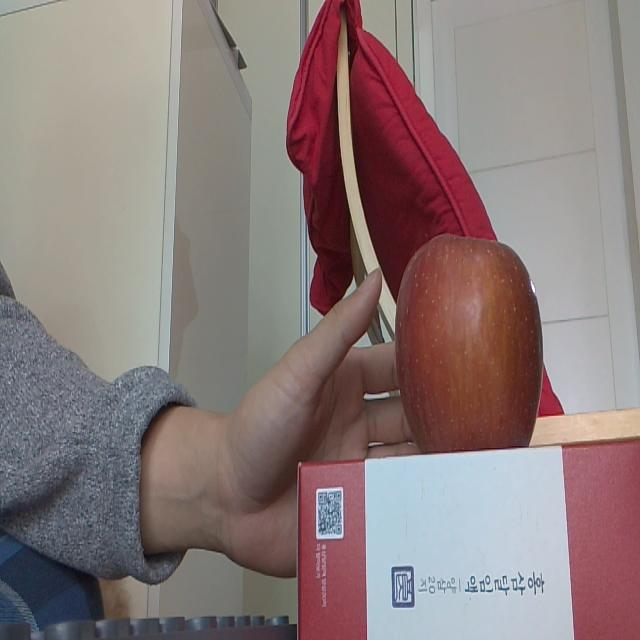apple: (395, 224, 546, 454)
